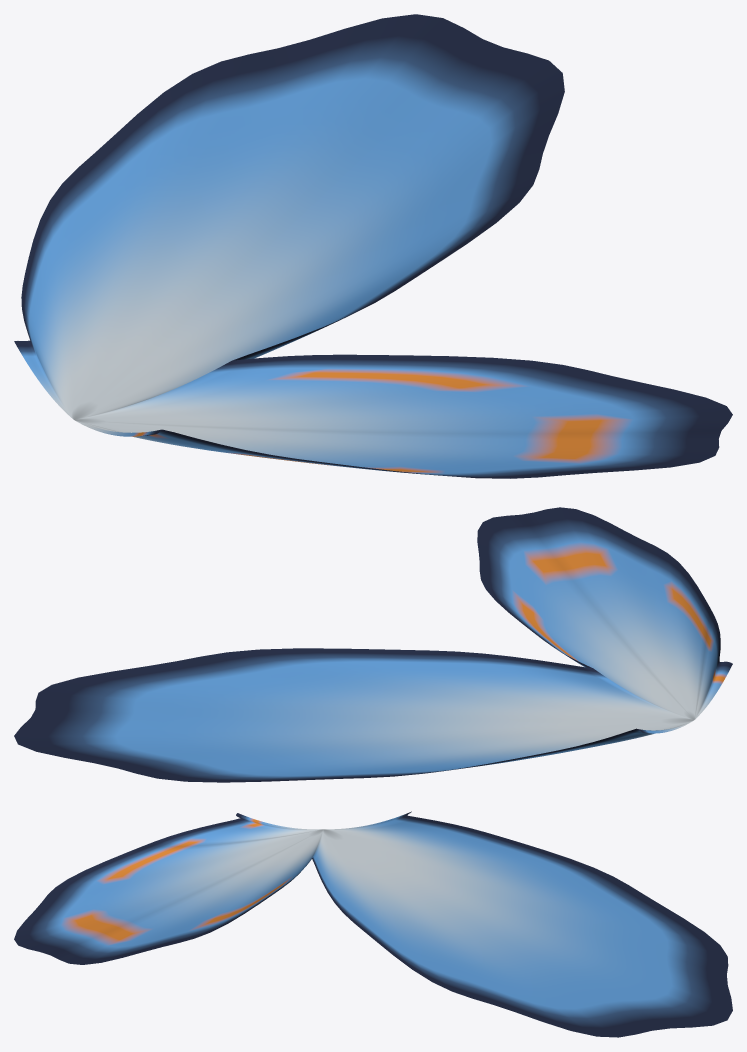
Rendered from Butterfly_Wing.fbx.
3 views of the same model, one above another, from view 1: azimuth 30°, elevation 25°; view 2: azimuth 150°, elevation 25°; view 3: azimuth 270°, elevation 25° (orthographic). The views are drawn at different scales.
Visible parts, largest first — view 1: Butterfly_Wing; view 2: Butterfly_Wing; view 3: Butterfly_Wing.
Part boxes in pixels (left/top/right/bottom): Butterfly_Wing: left=14, top=14, right=732, bottom=478; Butterfly_Wing: left=14, top=507, right=732, bottom=782; Butterfly_Wing: left=14, top=811, right=732, bottom=1037.
Size of the model in its own units: 0.7454 by 0.03 by 0.9935.
